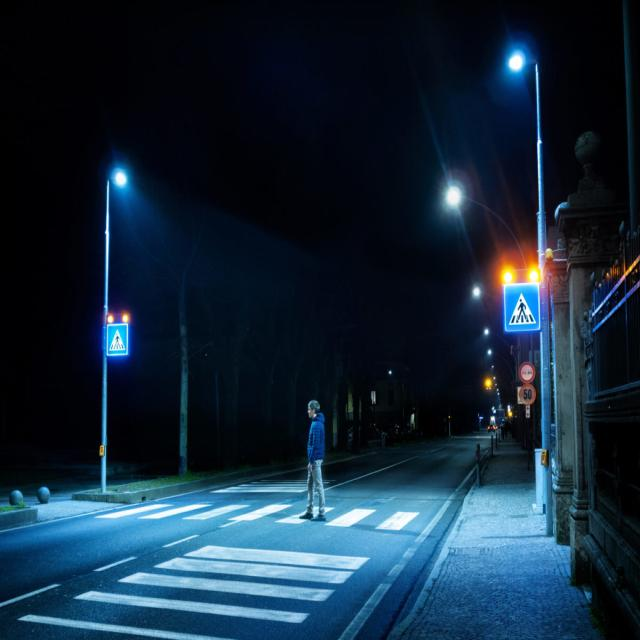Pedestrian crosswalk: (108, 497, 421, 535), (504, 285, 541, 331), (106, 324, 129, 356)
Person: (298, 396, 328, 522)
Traffic sign: (520, 383, 534, 404)
